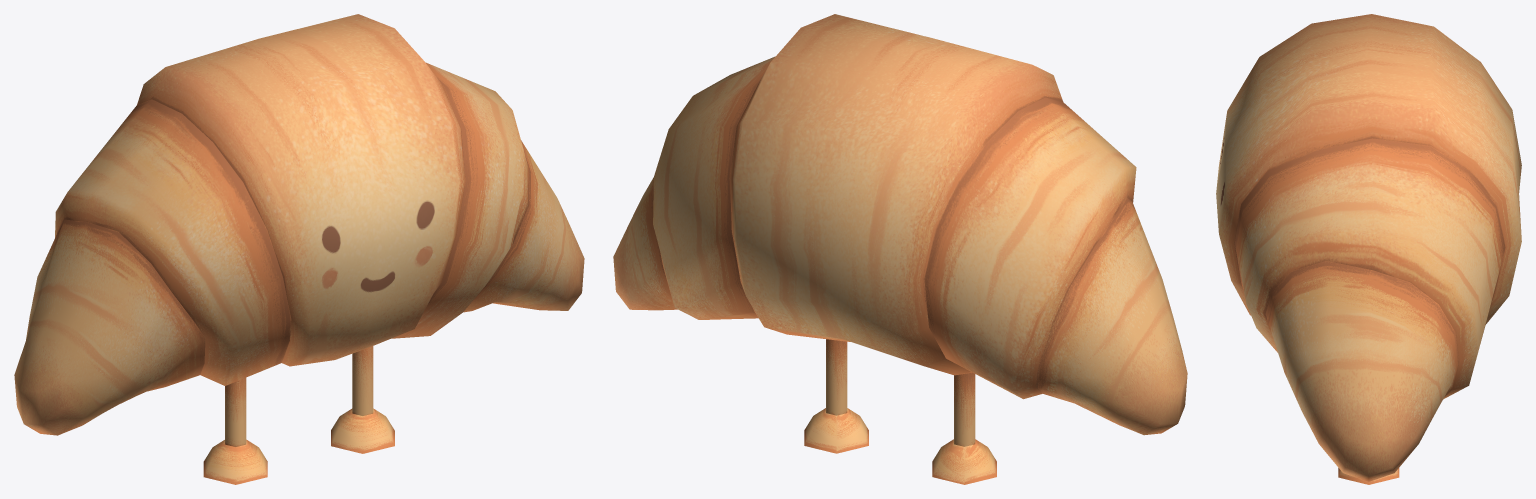
The model's file is croissant.glb.
3 views of the same model, side by side, from view 1: azimuth 30°, elevation 25°; view 2: azimuth 150°, elevation 25°; view 3: azimuth 270°, elevation 25° (orthographic). The views are drawn at different scales.
Parts seen in each view (by area): view 1: Box011; view 2: Box011; view 3: Box011.
Part boxes in pixels (x1,y1,x2,y2): Box011: (14,14,584,484); Box011: (613,14,1187,484); Box011: (1216,14,1521,484).
Size of the model in its own units: 429 by 296 by 213.
Materials: 1 (1 with a texture image).
